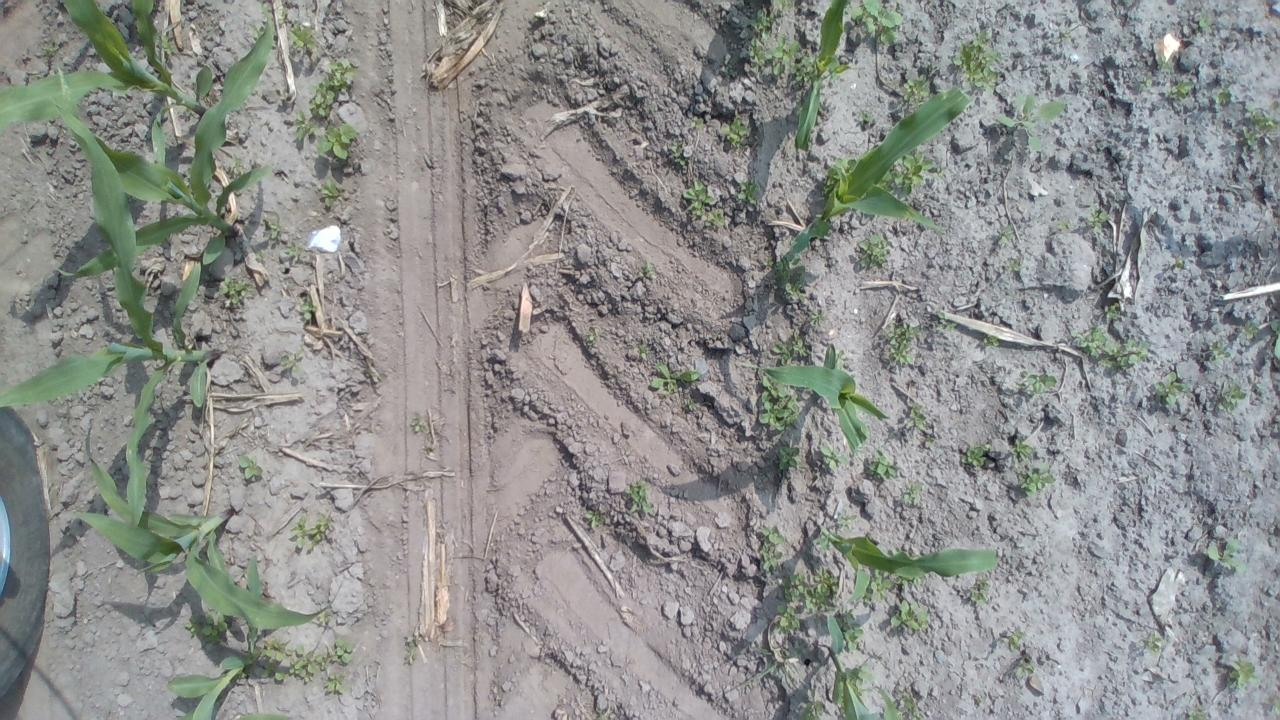Maize: (0, 95, 227, 538), (54, 6, 282, 288), (71, 417, 336, 642), (766, 83, 976, 269), (1, 0, 231, 144), (157, 550, 290, 718), (750, 338, 894, 462), (810, 522, 1004, 607), (786, 0, 870, 159), (803, 609, 914, 720)
Weeds: (731, 1, 819, 83), (258, 638, 355, 703), (989, 87, 1064, 158), (1064, 328, 1154, 371), (949, 30, 1005, 89), (752, 374, 807, 434), (875, 154, 948, 195), (778, 567, 839, 616), (310, 59, 354, 126), (997, 624, 1038, 682), (855, 0, 901, 48), (882, 317, 922, 371), (187, 607, 240, 647), (290, 512, 340, 554), (647, 362, 703, 397), (751, 520, 786, 574), (770, 326, 816, 366), (852, 234, 898, 274), (882, 600, 932, 636), (1202, 538, 1244, 578), (316, 123, 358, 163), (904, 403, 940, 449), (679, 175, 715, 221), (772, 256, 813, 296), (817, 154, 861, 190), (1148, 373, 1188, 412), (769, 603, 807, 642), (1239, 104, 1273, 146), (721, 112, 754, 154), (1222, 656, 1258, 694), (216, 274, 254, 308), (1015, 467, 1057, 497), (863, 452, 906, 481), (900, 68, 934, 104), (1210, 378, 1247, 411), (871, 562, 921, 586), (276, 347, 310, 382), (894, 691, 934, 720), (314, 176, 350, 208), (859, 570, 890, 606), (1020, 370, 1062, 396), (625, 477, 653, 516), (958, 441, 991, 474), (772, 440, 805, 473), (288, 22, 320, 56), (964, 579, 997, 611), (814, 439, 844, 474), (838, 618, 864, 656), (733, 174, 760, 208), (236, 452, 266, 482), (664, 138, 692, 170), (292, 110, 318, 144), (932, 308, 962, 336), (1170, 74, 1198, 104), (576, 502, 604, 531), (1142, 626, 1167, 656), (1081, 205, 1106, 235), (992, 219, 1019, 246), (803, 303, 829, 331), (282, 238, 308, 266), (402, 629, 421, 667), (1264, 316, 1280, 361), (1008, 436, 1034, 463), (1232, 316, 1258, 343), (898, 480, 924, 506), (1203, 340, 1229, 366), (830, 512, 859, 534), (1182, 698, 1210, 720), (297, 298, 320, 322), (800, 699, 829, 718), (260, 218, 282, 243), (632, 342, 652, 369), (580, 324, 604, 346), (1054, 215, 1078, 236), (1212, 87, 1238, 106), (979, 330, 1002, 350), (636, 258, 656, 281), (1004, 257, 1026, 277), (1101, 303, 1123, 323), (404, 414, 426, 434), (684, 114, 704, 134), (1191, 13, 1209, 34), (1158, 56, 1176, 77), (1266, 695, 1280, 720), (861, 110, 878, 128), (1139, 72, 1157, 88), (1172, 258, 1190, 274)
